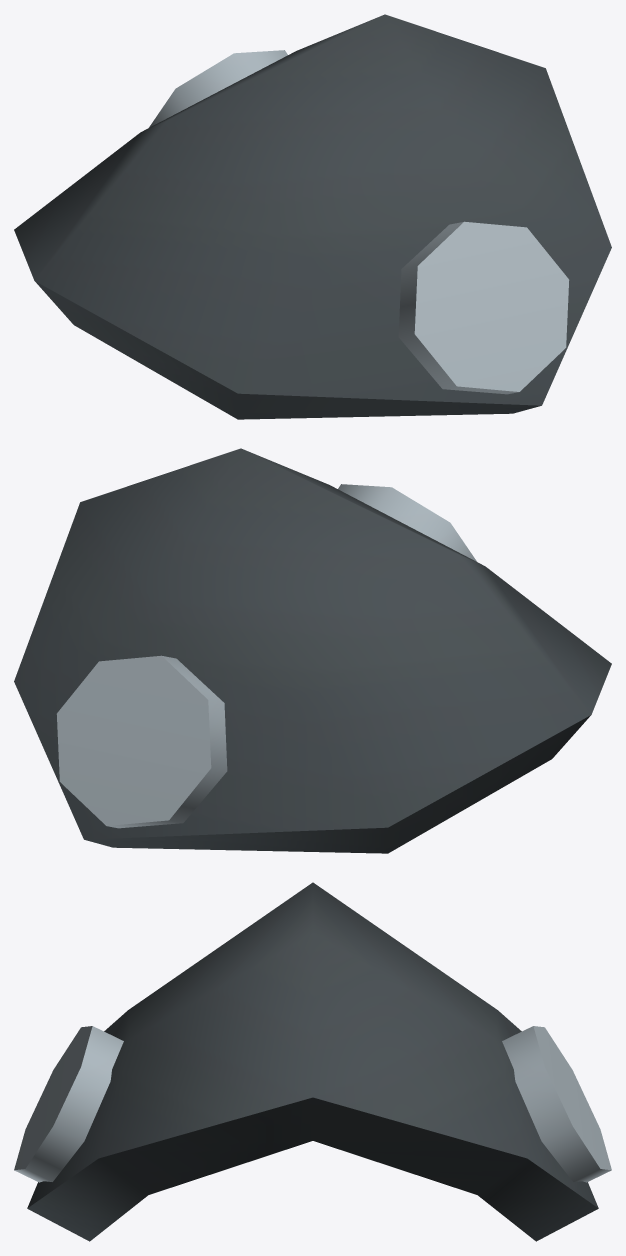
File: Shoulder 02.FBX
The picture shows the model from 3 angles, top to bottom: view 1: azimuth 30°, elevation 25°; view 2: azimuth 150°, elevation 25°; view 3: azimuth 270°, elevation 25°; orthographic projection. The views are drawn at different scales.
Visible parts, largest first — view 1: Shoulder 02; view 2: Shoulder 02; view 3: Shoulder 02.
Part boxes in pixels (box(x1,y1,x2,y2)): Shoulder 02: box(14, 14, 611, 419); Shoulder 02: box(14, 448, 611, 853); Shoulder 02: box(14, 882, 611, 1241).
Bounding box in the file's own units: 21.2 × 12.54 × 22.42.
Materials: 1 (1 with a texture image).
